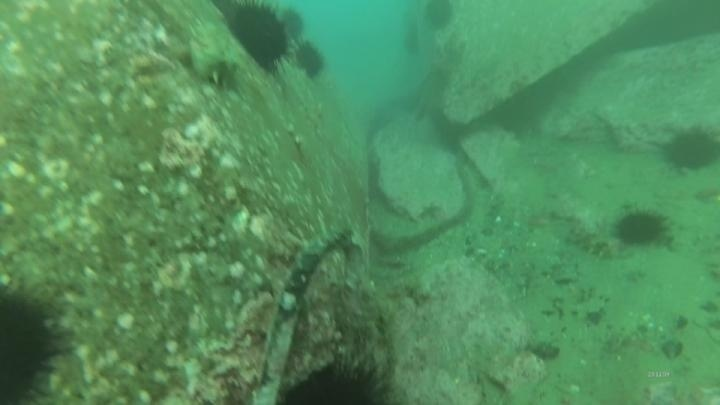echinus: (1, 279, 71, 405), (278, 351, 401, 404), (221, 1, 295, 74), (659, 123, 720, 176), (612, 205, 671, 250), (291, 38, 329, 82), (272, 5, 308, 44), (421, 1, 457, 32), (402, 22, 422, 59)
holothurian: (177, 40, 246, 93), (564, 222, 628, 263)
